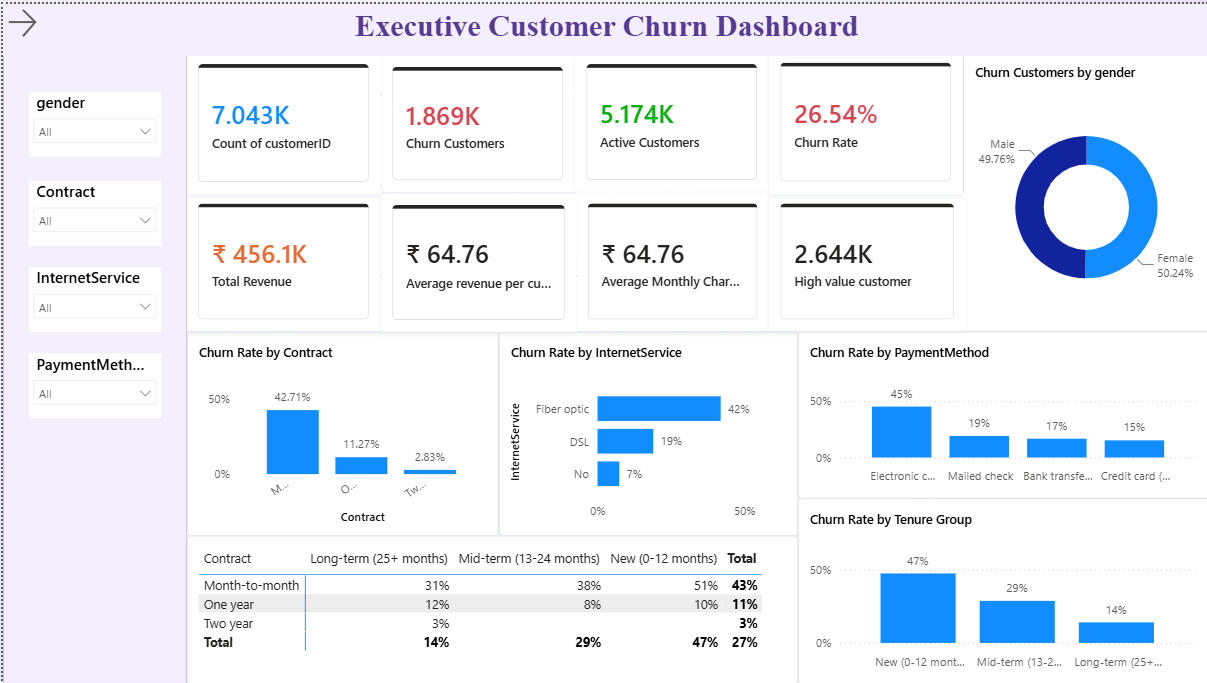

This screenshot's page, from the dashboard's own definition file:
{"tool":"powerbi","page":{"name":"Dashboard","canvas":[1280,720],"ordinal":0},"visuals":[{"type":"clusteredColumnChart","fields":{"Category":["WA_Fn-UseC_-Telco-Customer-Churn.Contract"],"Y":["WA_Fn-UseC_-Telco-Customer-Churn.Churn Rate"]},"box":[195,347.4,330.7,216.4],"z":0},{"type":"barChart","fields":{"Category":["WA_Fn-UseC_-Telco-Customer-Churn.InternetService"],"Y":["WA_Fn-UseC_-Telco-Customer-Churn.Churn Rate"]},"box":[525.7,347.4,317,216.4],"z":1000},{"type":"donutChart","fields":{"Category":["WA_Fn-UseC_-Telco-Customer-Churn.gender"],"Y":["WA_Fn-UseC_-Telco-Customer-Churn.Churn Customers"]},"box":[1017.9,50.3,262.1,297.1],"z":2000},{"type":"cardVisual","fields":{"Data":["WA_Fn-UseC_-Telco-Customer-Churn.Churn Customers"]},"box":[400.8,54.9,205.7,144.8],"z":3000},{"type":"cardVisual","fields":{"Data":["WA_Fn-UseC_-Telco-Customer-Churn.Active Customers"]},"box":[606.5,51.8,205.7,147.8],"z":4000},{"type":"cardVisual","fields":{"Data":["WA_Fn-UseC_-Telco-Customer-Churn.Average Monthly Charges"]},"box":[608,199.6,204.2,147.8],"z":5000},{"type":"cardVisual","fields":{"Data":["WA_Fn-UseC_-Telco-Customer-Churn.Total Revenue"]},"box":[195,199.6,205.7,147.8],"z":6000},{"type":"cardVisual","fields":{"Data":["WA_Fn-UseC_-Telco-Customer-Churn.High value customer"]},"box":[812.2,199.6,208.8,147.8],"z":7000},{"type":"cardVisual","fields":{"Data":["WA_Fn-UseC_-Telco-Customer-Churn.Average revenue per customer"]},"box":[400.8,201.1,207.2,146.3],"z":8000},{"type":"cardVisual","fields":{"Data":["WA_Fn-UseC_-Telco-Customer-Churn.Churn Rate"]},"box":[812.2,50.3,205.7,150.9],"z":9000},{"type":"cardVisual","fields":{"Data":["Count(WA_Fn-UseC_-Telco-Customer-Churn.customerID)"]},"box":[195,51.8,205.7,149.3],"z":10000},{"type":"shape","box":[0,50.3,195,670.5],"z":11000},{"type":"shape","box":[0,0,1280.2,52.2],"z":12000},{"type":"slicer","fields":{"Values":["WA_Fn-UseC_-Telco-Customer-Churn.gender"]},"box":[27.4,93,140.2,68.6],"z":13000},{"type":"slicer","fields":{"Values":["WA_Fn-UseC_-Telco-Customer-Churn.Contract"]},"box":[27.4,187.4,140.2,68.6],"z":14000},{"type":"slicer","fields":{"Values":["WA_Fn-UseC_-Telco-Customer-Churn.InternetService"]},"box":[27.4,278.9,140.2,68.6],"z":15000},{"type":"slicer","fields":{"Values":["WA_Fn-UseC_-Telco-Customer-Churn.PaymentMethod"]},"box":[27.4,370.3,140.2,68.6],"z":16000},{"type":"textbox","box":[0,0,1280,54.9],"z":17000},{"type":"actionButton","box":[0,0,100,40],"z":18000},{"type":"columnChart","fields":{"Category":["WA_Fn-UseC_-Telco-Customer-Churn.PaymentMethod"],"Y":["WA_Fn-UseC_-Telco-Customer-Churn.Churn Rate"]},"box":[842.7,347.4,437.3,176.8],"z":19000},{"type":"clusteredColumnChart","fields":{"Y":["WA_Fn-UseC_-Telco-Customer-Churn.Churn Rate"],"Category":["WA_Fn-UseC_-Telco-Customer-Churn.Tenure Group"]},"box":[842.7,524.2,437.3,196.6],"z":20000},{"type":"pivotTable","fields":{"Rows":["WA_Fn-UseC_-Telco-Customer-Churn.Contract"],"Columns":["WA_Fn-UseC_-Telco-Customer-Churn.Tenure Group"],"Values":["WA_Fn-UseC_-Telco-Customer-Churn.Churn Rate"]},"box":[195,563.8,647.6,157],"z":21000}]}

Visuals, with their boxes in screenshot pixels (x1, y1, x2, y2), scaled from the page's 1280x720 canvas onto the 1207x683 screenshot:
clusteredColumnChart - WA_Fn-UseC_-Telco-Customer-Churn.Contract x WA_Fn-UseC_-Telco-Customer-Churn.Churn Rate: <box>184,330,496,535</box>
barChart - WA_Fn-UseC_-Telco-Customer-Churn.InternetService x WA_Fn-UseC_-Telco-Customer-Churn.Churn Rate: <box>496,330,795,535</box>
donutChart - WA_Fn-UseC_-Telco-Customer-Churn.gender x WA_Fn-UseC_-Telco-Customer-Churn.Churn Customers: <box>960,48,1206,330</box>
cardVisual - WA_Fn-UseC_-Telco-Customer-Churn.Churn Customers: <box>378,52,572,189</box>
cardVisual - WA_Fn-UseC_-Telco-Customer-Churn.Active Customers: <box>572,49,766,189</box>
cardVisual - WA_Fn-UseC_-Telco-Customer-Churn.Average Monthly Charges: <box>573,189,766,330</box>
cardVisual - WA_Fn-UseC_-Telco-Customer-Churn.Total Revenue: <box>184,189,378,330</box>
cardVisual - WA_Fn-UseC_-Telco-Customer-Churn.High value customer: <box>766,189,963,330</box>
cardVisual - WA_Fn-UseC_-Telco-Customer-Churn.Average revenue per customer: <box>378,191,573,330</box>
cardVisual - WA_Fn-UseC_-Telco-Customer-Churn.Churn Rate: <box>766,48,960,191</box>
cardVisual - Count(WA_Fn-UseC_-Telco-Customer-Churn.customerID): <box>184,49,378,191</box>
shape: <box>0,48,184,682</box>
shape: <box>0,0,1206,50</box>
slicer - WA_Fn-UseC_-Telco-Customer-Churn.gender: <box>26,88,158,153</box>
slicer - WA_Fn-UseC_-Telco-Customer-Churn.Contract: <box>26,178,158,243</box>
slicer - WA_Fn-UseC_-Telco-Customer-Churn.InternetService: <box>26,265,158,330</box>
slicer - WA_Fn-UseC_-Telco-Customer-Churn.PaymentMethod: <box>26,351,158,416</box>
textbox: <box>0,0,1206,52</box>
actionButton: <box>0,0,94,38</box>
columnChart - WA_Fn-UseC_-Telco-Customer-Churn.PaymentMethod x WA_Fn-UseC_-Telco-Customer-Churn.Churn Rate: <box>795,330,1206,497</box>
clusteredColumnChart - WA_Fn-UseC_-Telco-Customer-Churn.Churn Rate x WA_Fn-UseC_-Telco-Customer-Churn.Tenure Group: <box>795,497,1206,682</box>
pivotTable - WA_Fn-UseC_-Telco-Customer-Churn.Contract x WA_Fn-UseC_-Telco-Customer-Churn.Tenure Group: <box>184,535,795,682</box>
